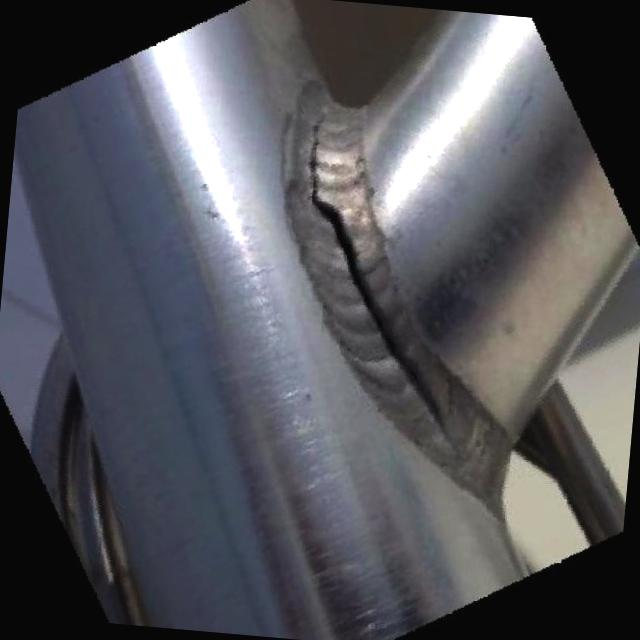crack: (399, 367, 449, 428), (373, 307, 411, 373), (304, 104, 327, 206), (338, 241, 373, 308), (317, 205, 349, 238)
